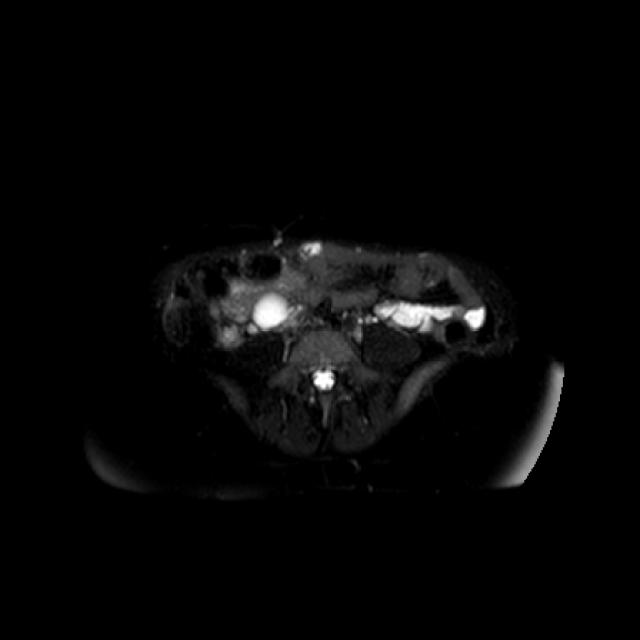sag: (245, 291, 290, 338)
